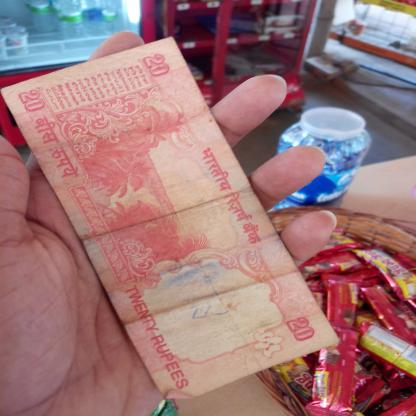Old20Back: (0, 37, 341, 399)
